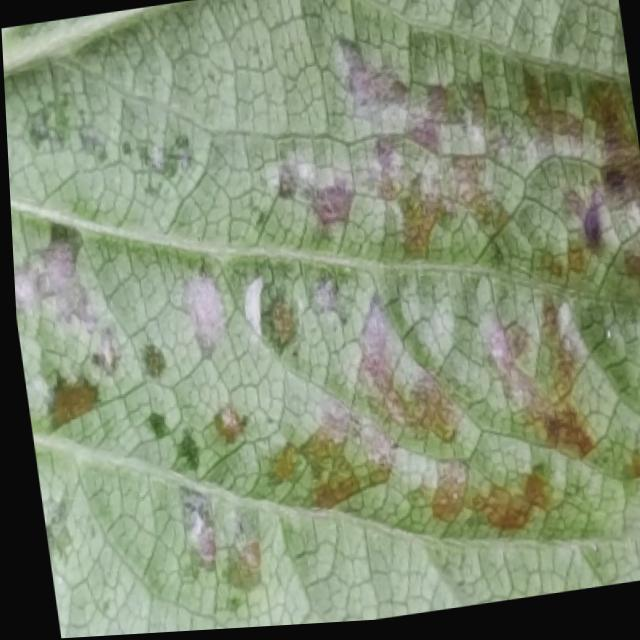Angular Leafspot: (1, 0, 640, 639)
